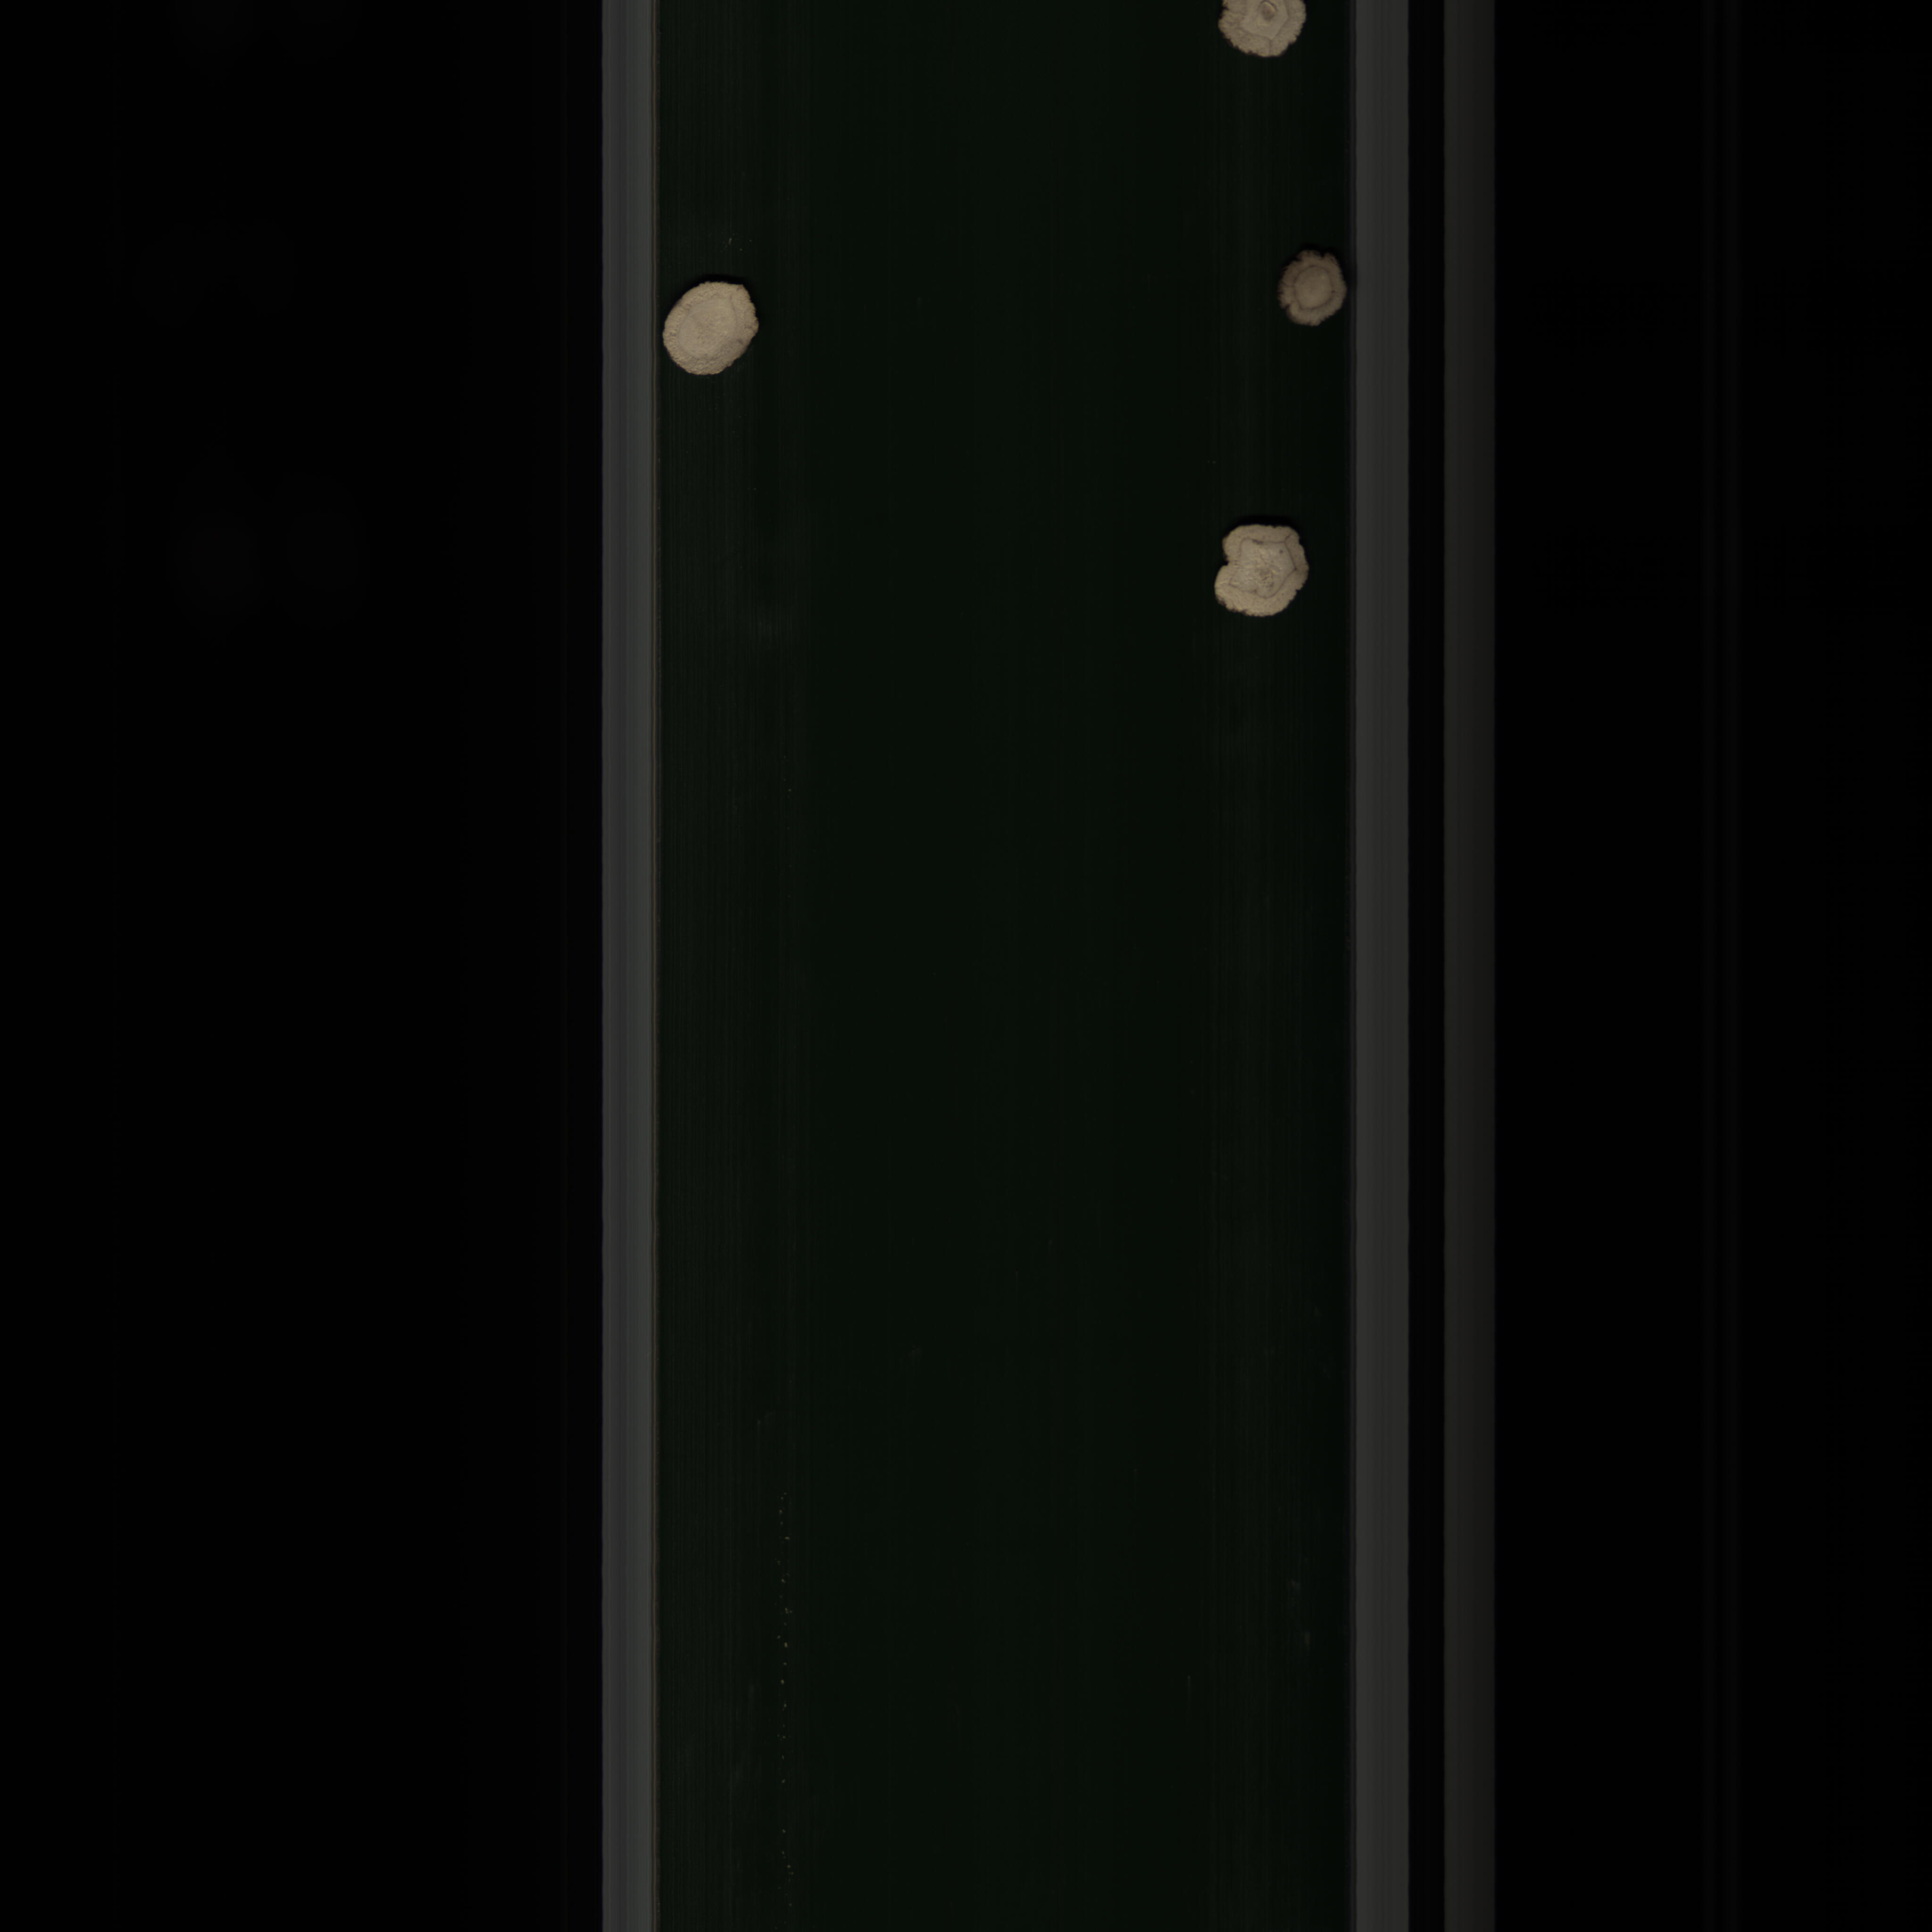distortion: (1207, 517, 1318, 628)
moldy: (1270, 242, 1361, 343)
